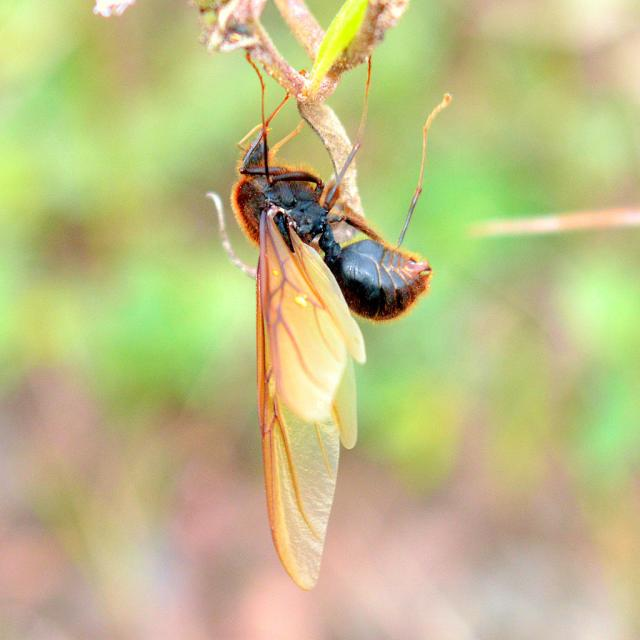Alive-Male-Alate: (230, 51, 452, 593)
